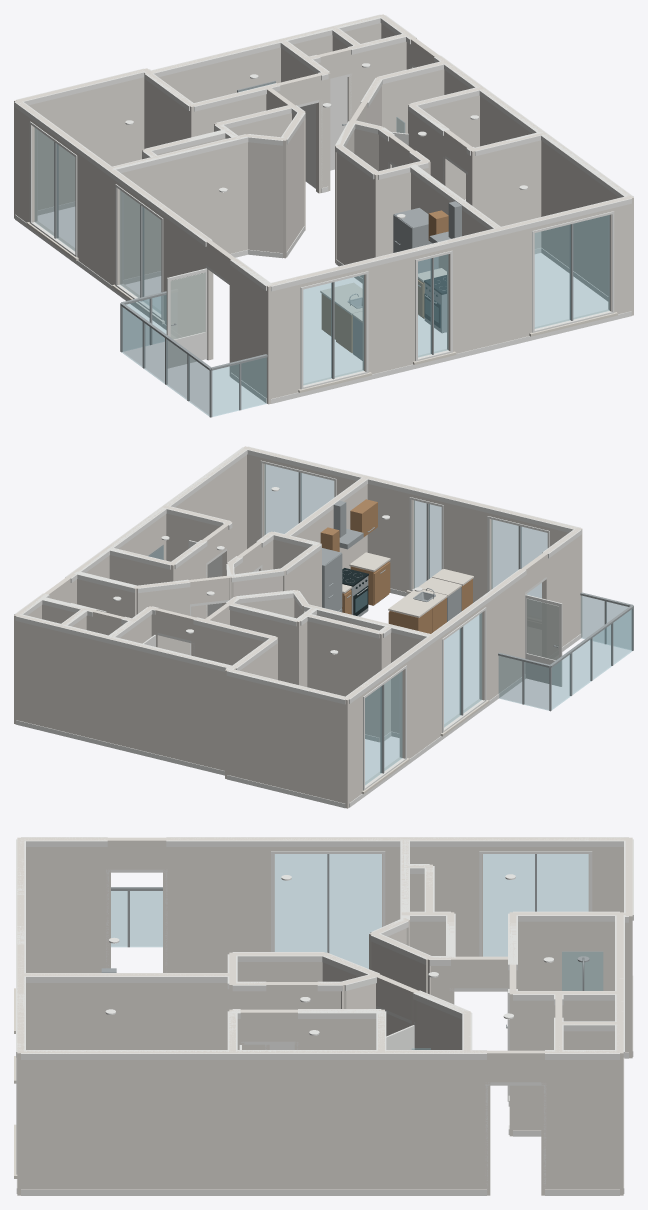
Rendered from flowhouse-wb1-architecture.glb.
3 views of the same model, one above another, from view 1: azimuth 30°, elevation 25°; view 2: azimuth 150°, elevation 25°; view 3: azimuth 270°, elevation 25° (orthographic). The views are drawn at different scales.
Parts seen in each view (by area): view 1: Wall (×32), Window glazing (×5), Ceiling trim (×9), Glass balcony guard (×3), Wall above doorway (×6), White baseboard (×2), Frosted door glass, Painted door leaf (×2), Refrigerator body, White lower door panel, Sink cabinet back, Refrigerator door; view 2: Wall (×32), Window glazing (×5), Ceiling trim (×10), Glass balcony guard (×3), Wall above doorway (×6), White baseboard (×3), Frosted door glass, Refrigerator door, Upper kitchen cabinet, White lower door panel, Cabinet carcass, Panelled cabinet door (+1 smaller); view 3: Wall (×33), Ceiling trim (×15), Window glazing (×2), Wall above doorway (×6), White baseboard (×2), Glass balcony guard, Glass shower screen, Painted door leaf.
Boxes of the visible parts, box(x1,y1,x2,y2) form: Wall (×32): box(14, 14, 633, 404); Window glazing (×5): box(34, 128, 609, 384); Ceiling trim (×9): box(14, 14, 633, 291); Glass balcony guard (×3): box(121, 295, 266, 416); Wall above doorway (×6): box(205, 38, 470, 284); White baseboard (×2): box(15, 214, 631, 403); Frosted door glass: box(170, 272, 205, 339); Painted door leaf (×2): box(300, 77, 347, 188); Refrigerator body: box(393, 208, 438, 273); White lower door panel: box(168, 335, 205, 367); Sink cabinet back: box(336, 304, 352, 352); Refrigerator door: box(393, 214, 412, 252); Wall (×32): box(14, 446, 582, 808); Window glazing (×5): box(264, 464, 547, 784); Ceiling trim (×10): box(15, 446, 580, 704); Glass balcony guard (×3): box(498, 595, 632, 710); Wall above doorway (×6): box(91, 525, 546, 641); White baseboard (×3): box(16, 694, 499, 808); Frosted door glass: box(526, 598, 558, 660); Refrigerator door: box(324, 553, 342, 610); Upper kitchen cabinet: box(350, 499, 377, 536); White lower door panel: box(526, 656, 562, 686); Cabinet carcass: box(389, 609, 431, 633); Panelled cabinet door: box(373, 562, 390, 603); Wall (×33): box(17, 837, 632, 1195); Ceiling trim (×15): box(16, 837, 628, 1059); Window glazing (×2): box(275, 854, 588, 968); Wall above doorway (×6): box(104, 837, 548, 1082); White baseboard (×2): box(21, 1189, 619, 1195); Glass balcony guard: box(111, 891, 162, 946); Glass shower screen: box(562, 952, 602, 990); Painted door leaf: box(386, 1025, 414, 1049).
Bounding box in the file's own units: 10.19 × 2.7 × 10.68.
